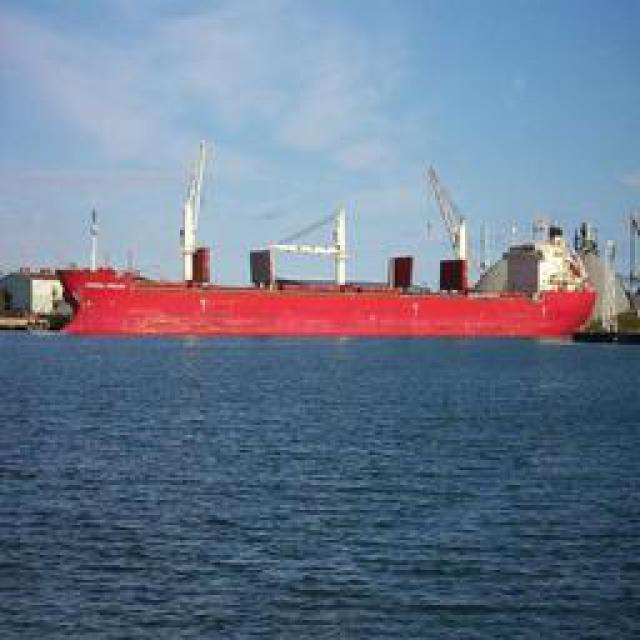Ship: (46, 229, 599, 342)
